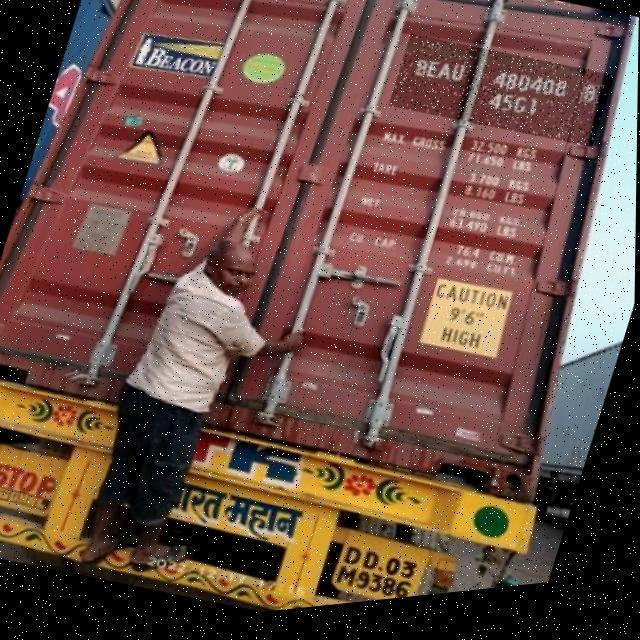container_number_h: (388, 26, 616, 177)
